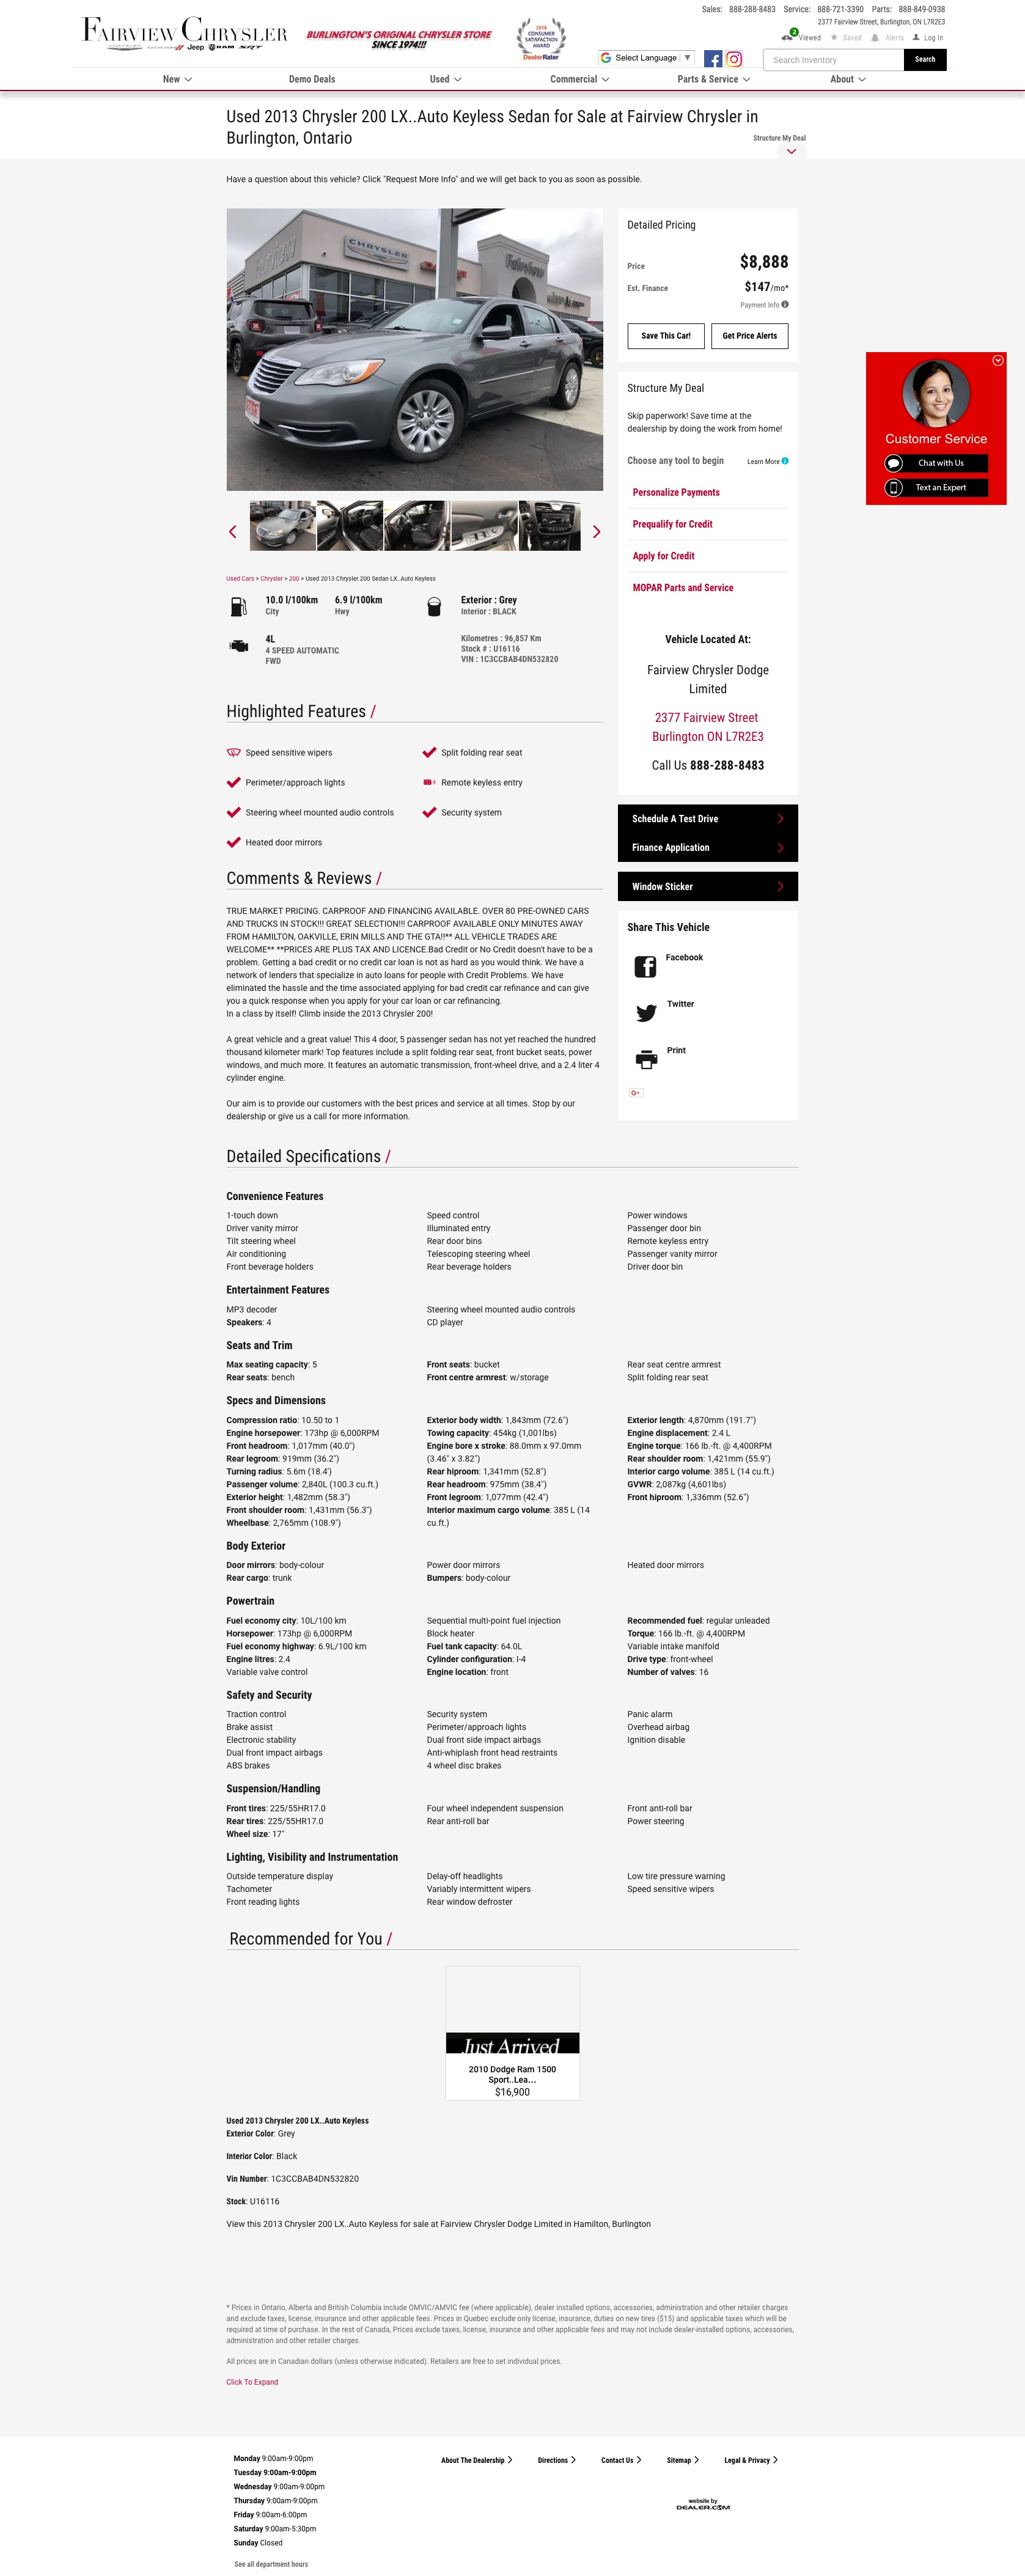car: (595, 526, 601, 539)
